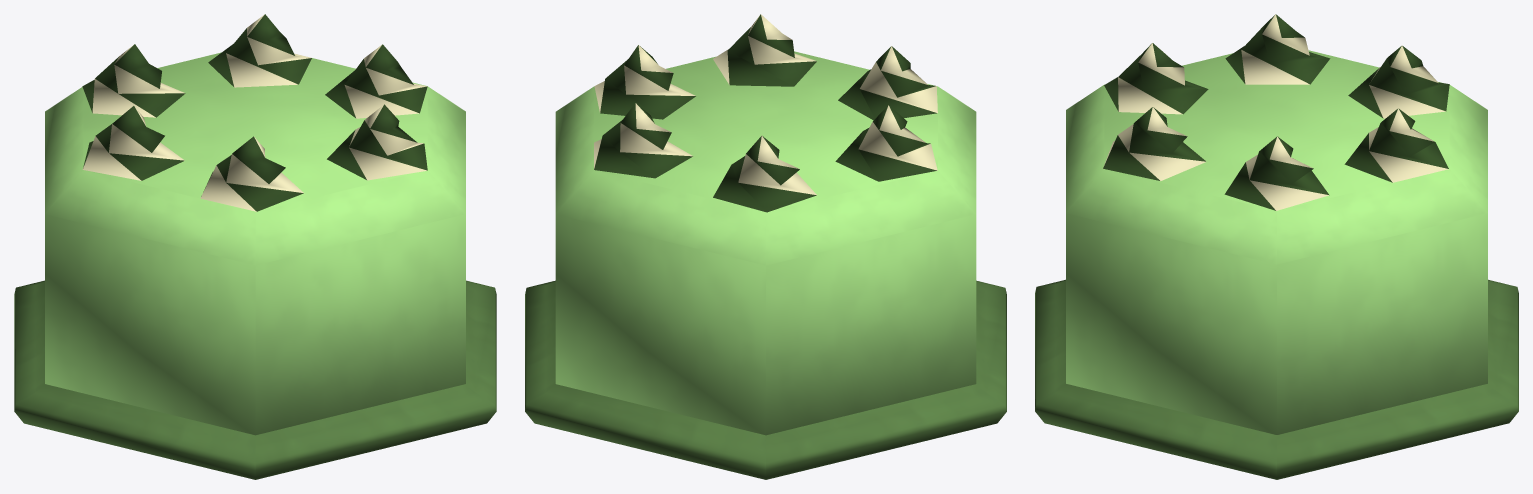
The model's file is Cake_B_02.FBX.
3 views of the same model, side by side, from view 1: azimuth 30°, elevation 25°; view 2: azimuth 150°, elevation 25°; view 3: azimuth 270°, elevation 25° (orthographic).
Parts seen in each view (by area): view 1: Cake_2; view 2: Cake_2; view 3: Cake_2.
Part boxes in pixels (x1,y1,x2,y2): Cake_2: (14, 14, 496, 479); Cake_2: (525, 14, 1006, 479); Cake_2: (1035, 14, 1518, 479).
Bounding box in the file's own units: 117 × 67.83 × 101.
